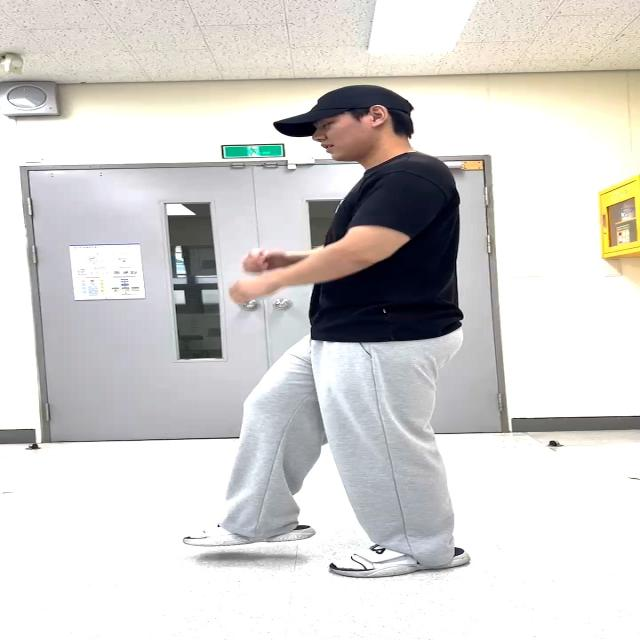leg: (202, 344, 316, 541)
